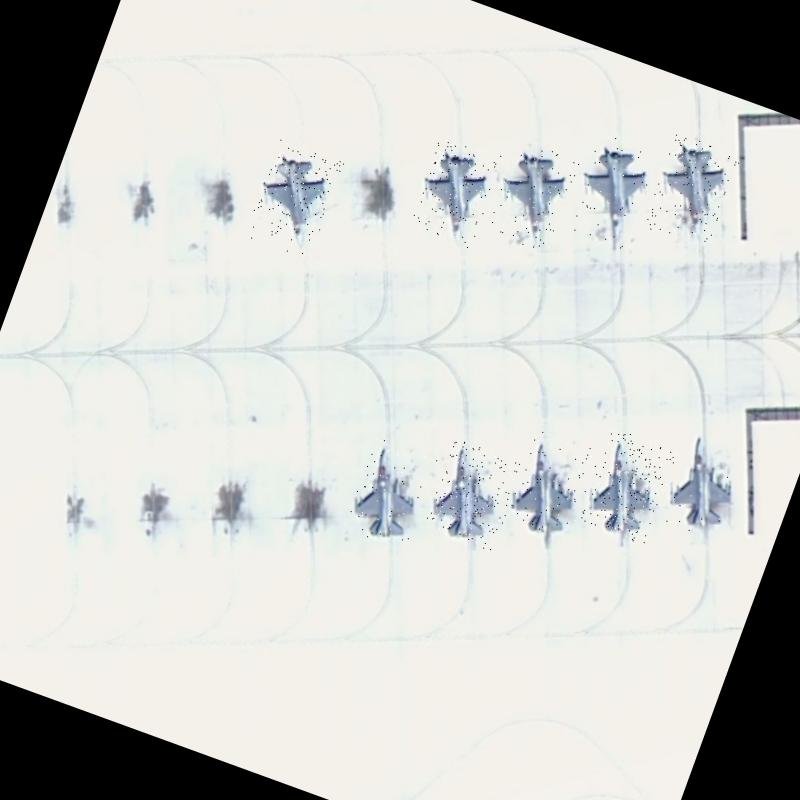A5: (500, 427, 603, 547), (656, 423, 758, 544), (244, 139, 344, 259), (642, 132, 742, 251), (578, 427, 678, 546), (564, 132, 660, 251), (422, 438, 522, 552), (484, 139, 581, 254), (407, 134, 503, 249), (343, 437, 437, 550)
